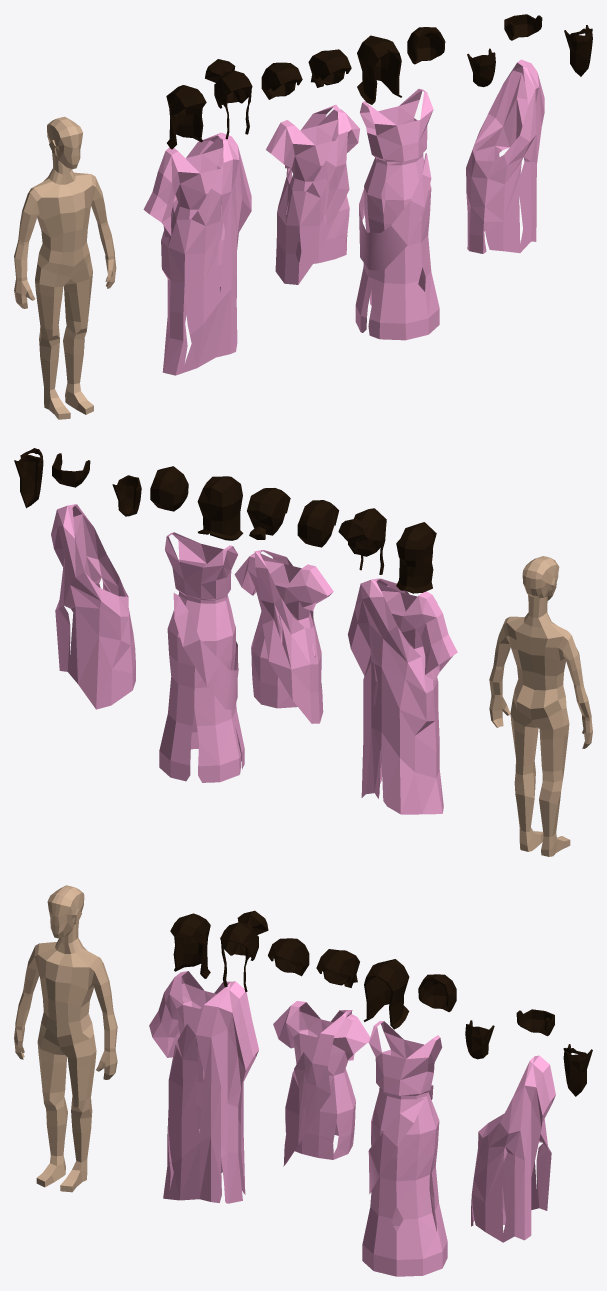
Rendered from npcmodels.FBX.
3 renders of one model, top to bottom at view 1: azimuth 30°, elevation 25°; view 2: azimuth 150°, elevation 25°; view 3: azimuth 330°, elevation 25°, orthographic.
Visible parts, largest first — view 1: bigcape, longcloth, body, bigcape001, shortcloth, verylonghair, longhair, bigbun, cutebun, shorthair, shorthair002, shorthair001 (+2 smaller); view 2: bigcape, longcloth, body, bigcape001, shortcloth, verylonghair, longhair, bigbun, cutebun, shorthair, shorthair002, shorthair001 (+2 smaller); view 3: bigcape, longcloth, body, bigcape001, shortcloth, verylonghair, longhair, bigbun, cutebun, shorthair, shorthair002, shorthair001 (+2 smaller).
Part boxes in pixels (bbox=[...]): bigcape: bbox=[143, 132, 251, 375]; longcloth: bbox=[355, 88, 439, 340]; body: bbox=[14, 116, 116, 419]; bigcape001: bbox=[466, 59, 544, 253]; shortcloth: bbox=[266, 104, 359, 284]; verylonghair: bbox=[357, 35, 401, 104]; longhair: bbox=[166, 85, 206, 149]; bigbun: bbox=[205, 59, 252, 139]; cutebun: bbox=[308, 49, 351, 87]; shorthair: bbox=[261, 62, 302, 99]; shorthair002: bbox=[407, 27, 445, 64]; shorthair001: bbox=[564, 25, 592, 76]; bigcape: bbox=[348, 578, 457, 814]; longcloth: bbox=[159, 532, 244, 782]; body: bbox=[489, 556, 592, 856]; bigcape001: bbox=[51, 504, 135, 709]; shortcloth: bbox=[234, 550, 333, 723]; verylonghair: bbox=[197, 476, 243, 540]; longhair: bbox=[396, 522, 436, 593]; bigbun: bbox=[338, 508, 386, 574]; cutebun: bbox=[247, 488, 290, 539]; shorthair: bbox=[297, 500, 339, 547]; shorthair002: bbox=[150, 466, 188, 511]; shorthair001: bbox=[14, 448, 43, 508]; bigcape: bbox=[149, 971, 258, 1203]; longcloth: bbox=[362, 1021, 447, 1276]; body: bbox=[14, 885, 117, 1192]; bigcape001: bbox=[471, 1055, 555, 1242]; shortcloth: bbox=[273, 1001, 370, 1166]; verylonghair: bbox=[363, 959, 409, 1029]; longhair: bbox=[170, 913, 210, 978]; bigbun: bbox=[220, 910, 268, 992]; cutebun: bbox=[316, 949, 359, 987]; shorthair: bbox=[268, 938, 309, 976]; shorthair002: bbox=[418, 974, 456, 1011]; shorthair001: bbox=[563, 1044, 592, 1096].
Size of the model in its own units: 232 by 114 by 27.8.
